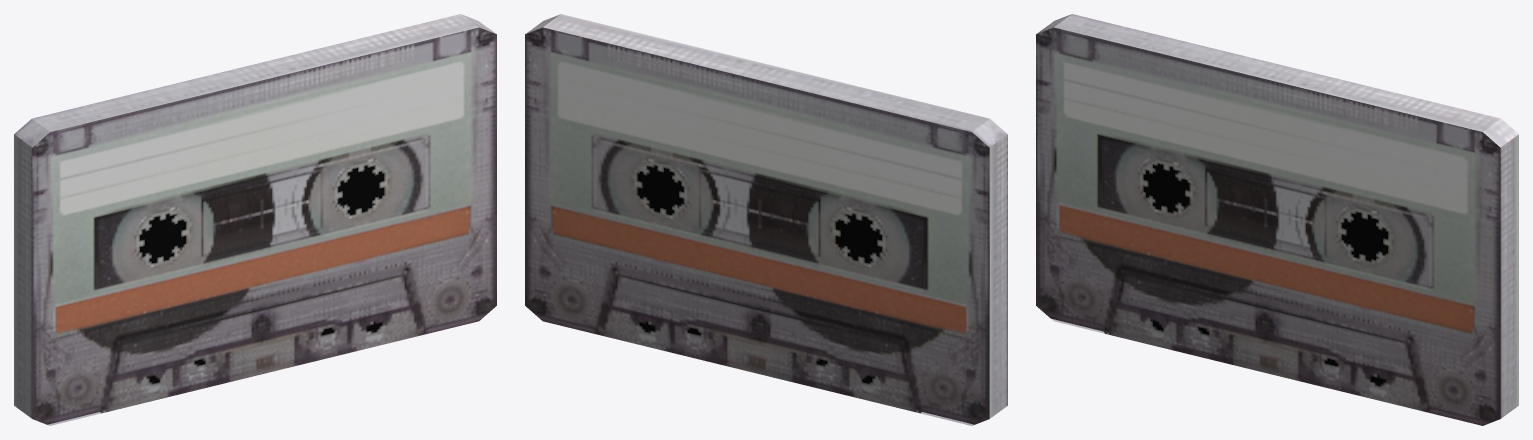
The model's file is Cassette.fbx.
3 renders of one model, left to right at view 1: azimuth 30°, elevation 25°; view 2: azimuth 150°, elevation 25°; view 3: azimuth 330°, elevation 25°, orthographic.
Parts seen in each view (by area): view 1: Cassette; view 2: Cassette; view 3: Cassette.
Part boxes in pixels (<box>): Cassette: <box>14,14,496,425</box>; Cassette: <box>525,14,1007,425</box>; Cassette: <box>1036,14,1518,425</box>.
Bounding box in the file's own units: 7.93 × 4.79 × 0.5425.
